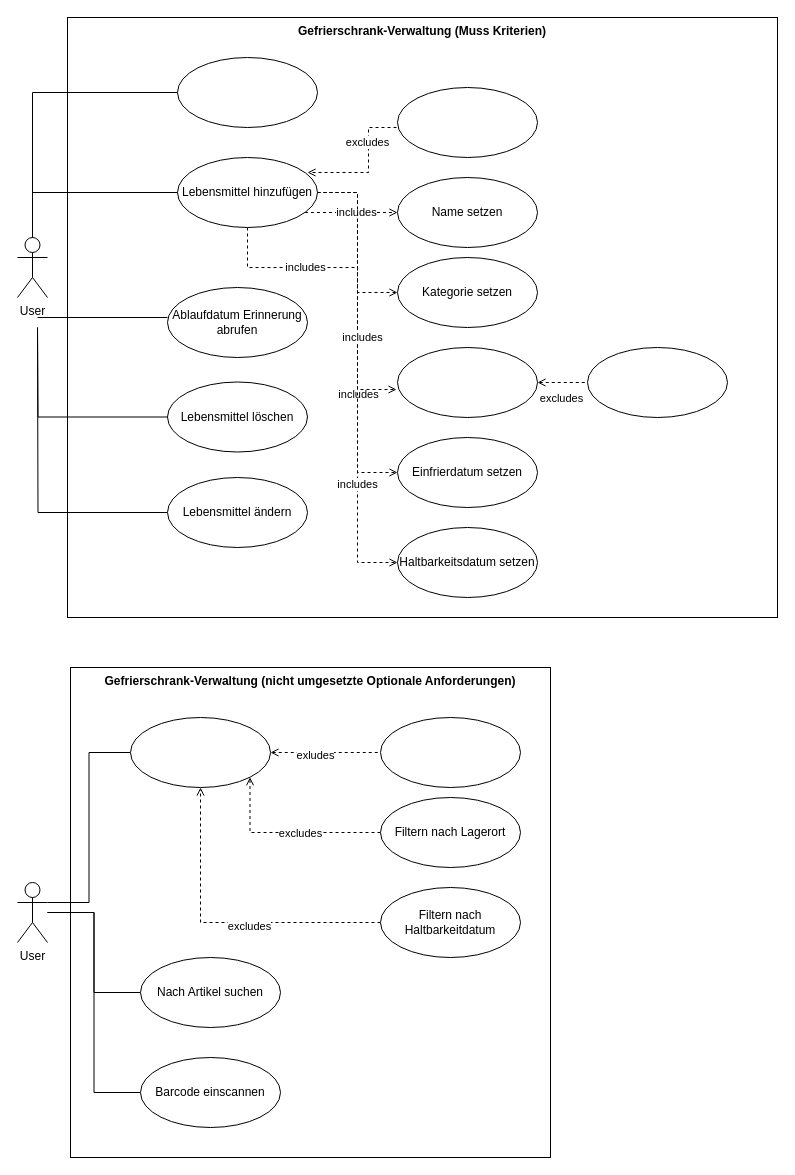
Some shapes in this 795 by 1175 pixel diagram are drawn without their labels. Each missing label, with the centre of its shape:
Einheit angeben: point (657, 382)
Filtern: point (200, 752)
Filtern nach Kategorie: point (450, 752)
Lagerort setzen: point (467, 122)
Menge setzen: point (467, 382)
Vorhandene Lebensmittel abrufen: point (247, 92)
